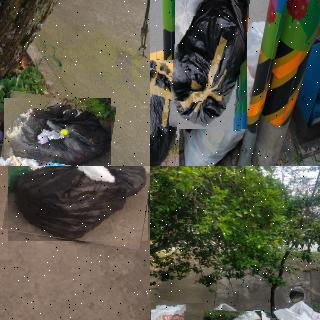Garbage: (5, 166, 150, 246), (172, 0, 249, 130), (1, 94, 113, 166), (150, 57, 184, 166), (150, 301, 209, 320)
